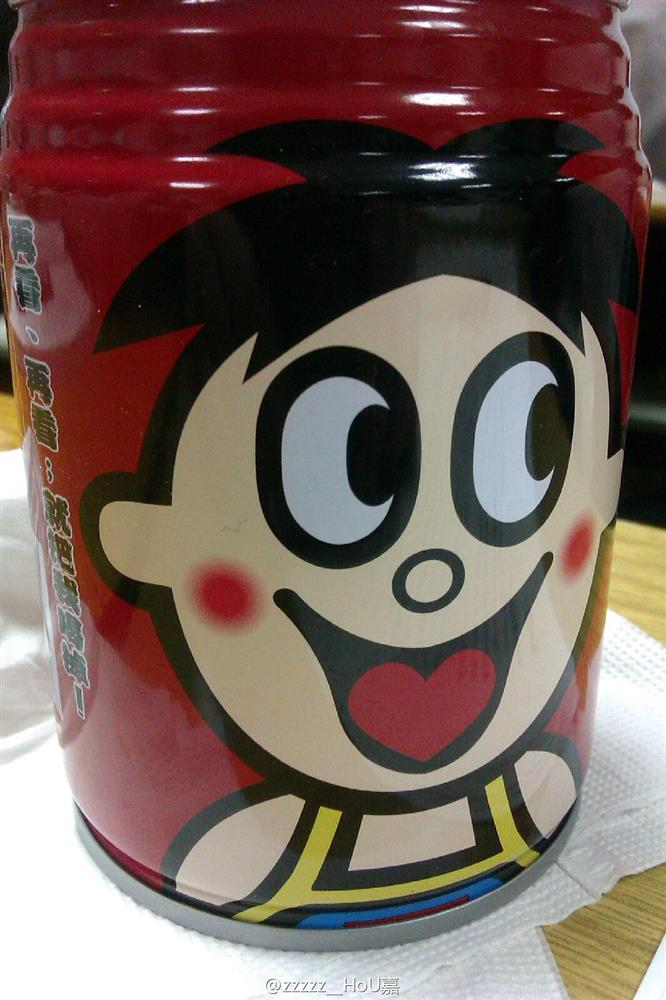wangzai: (83, 108, 640, 938)
